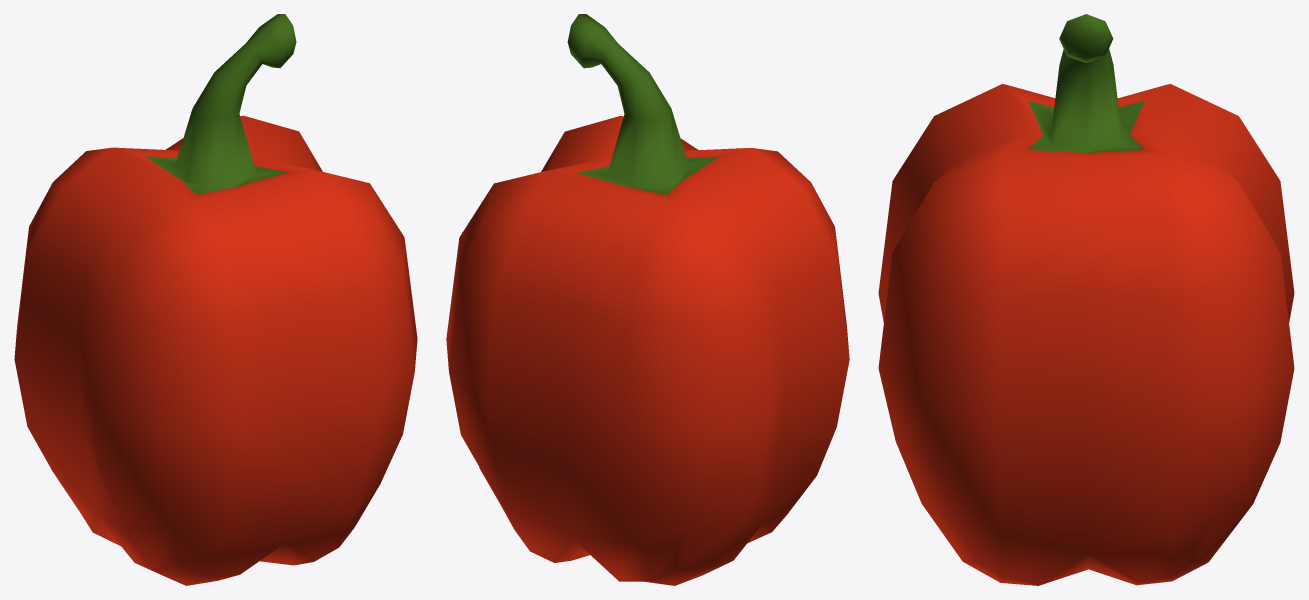
File: pepper_red.glb
3 renders of one model, left to right at view 1: azimuth 30°, elevation 25°; view 2: azimuth 150°, elevation 25°; view 3: azimuth 270°, elevation 25°, orthographic. The views are drawn at different scales.
Parts seen in each view (by area): view 1: Pepper_Red; view 2: Pepper_Red; view 3: Pepper_Red.
Part boxes in pixels (x1,y1,x2,y2): Pepper_Red: (14,14,417,585); Pepper_Red: (446,14,849,585); Pepper_Red: (878,14,1294,585).
Size of the model in its own units: 0.1045 by 0.1601 by 0.1045.
Materials: 1 (1 with a texture image).
